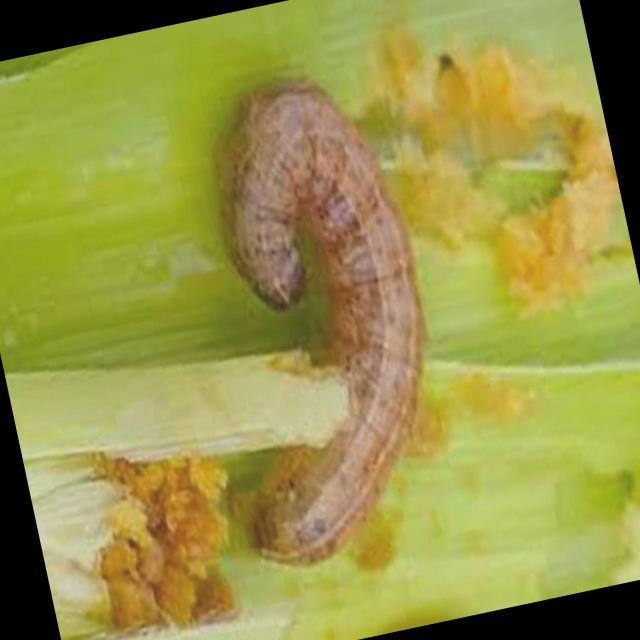pest: (183, 85, 458, 557)
